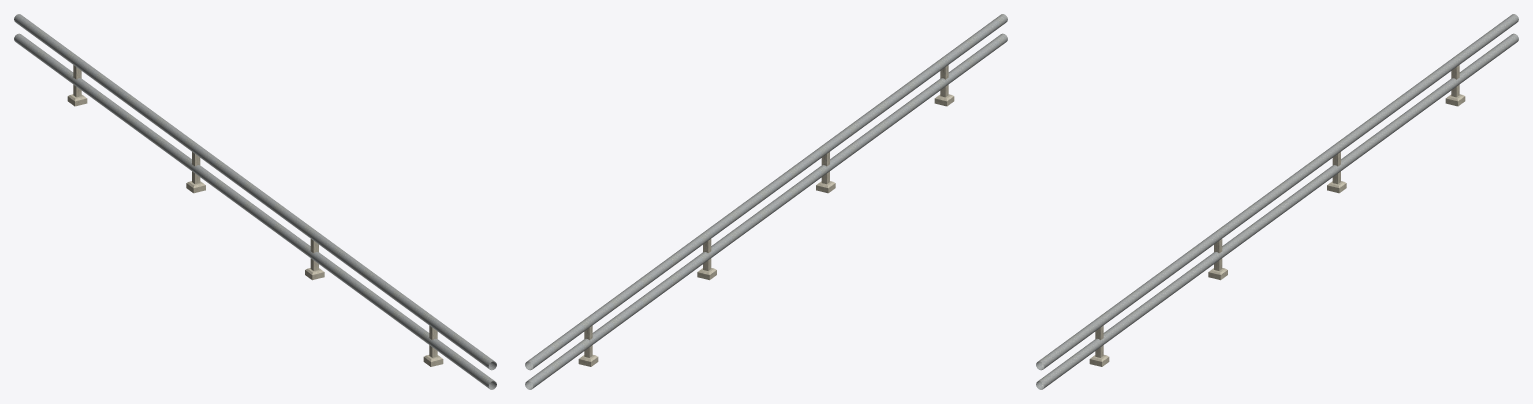
The model's file is GSDRailing6-20M-Single.FBX.
3 renders of one model, left to right at view 1: azimuth 30°, elevation 25°; view 2: azimuth 150°, elevation 25°; view 3: azimuth 330°, elevation 25°, orthographic.
Visible parts, largest first — view 1: GSDRailing6-20M-Single; view 2: GSDRailing6-20M-Single; view 3: GSDRailing6-20M-Single.
Boxes of the visible parts, x1,y1,x2,y2 form: GSDRailing6-20M-Single: [14, 14, 496, 389]; GSDRailing6-20M-Single: [525, 14, 1007, 389]; GSDRailing6-20M-Single: [1036, 14, 1518, 389].
Bounding box in the file's own units: 0.3 × 1.04 × 20.
